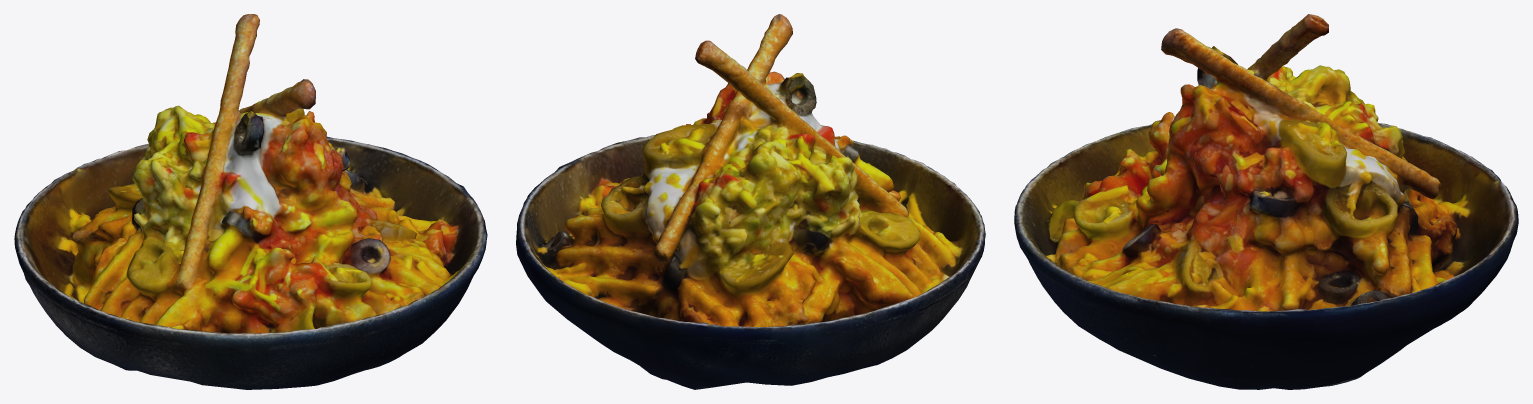
File: waffleSalad_1752072103683.glb
The picture shows the model from 3 angles, left to right: view 1: azimuth 30°, elevation 25°; view 2: azimuth 150°, elevation 25°; view 3: azimuth 270°, elevation 25°; orthographic projection. The views are drawn at different scales.
Visible parts, largest first — view 1: 3DModel_Custom; view 2: 3DModel_Custom; view 3: 3DModel_Custom.
Boxes of the visible parts, x1,y1,x2,y2 form: 3DModel_Custom: (14,14,487,389); 3DModel_Custom: (516,14,985,389); 3DModel_Custom: (1014,14,1518,389).
Size of the model in its own units: 0.1854 by 0.1375 by 0.1869.
1 material, 1 textured.
